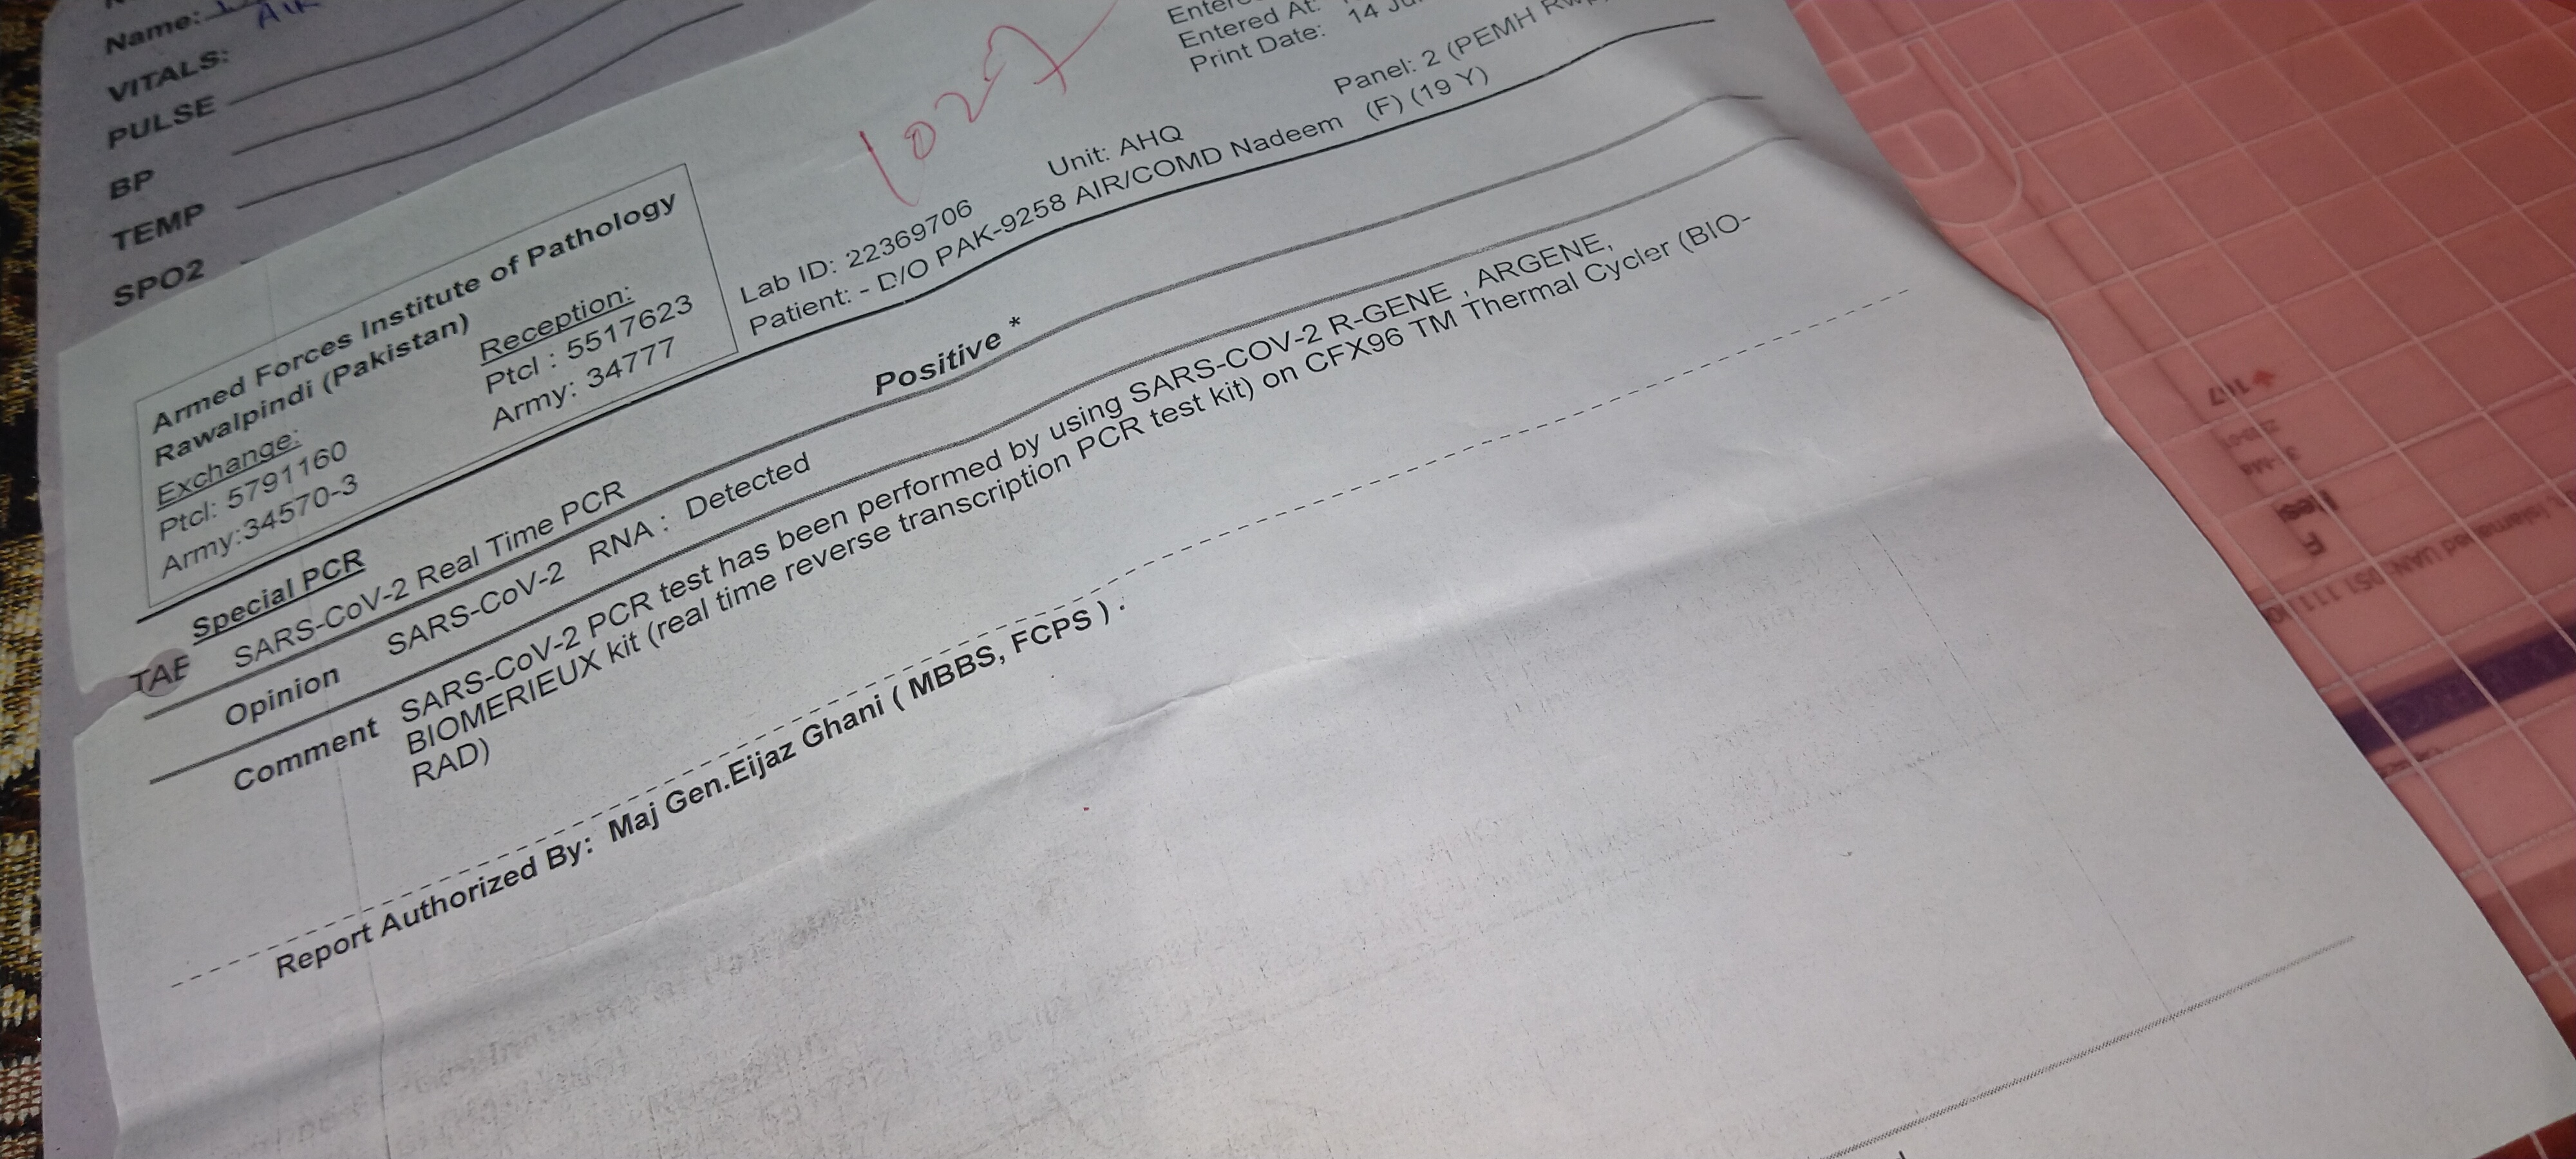report: (126, 98, 1819, 786)
